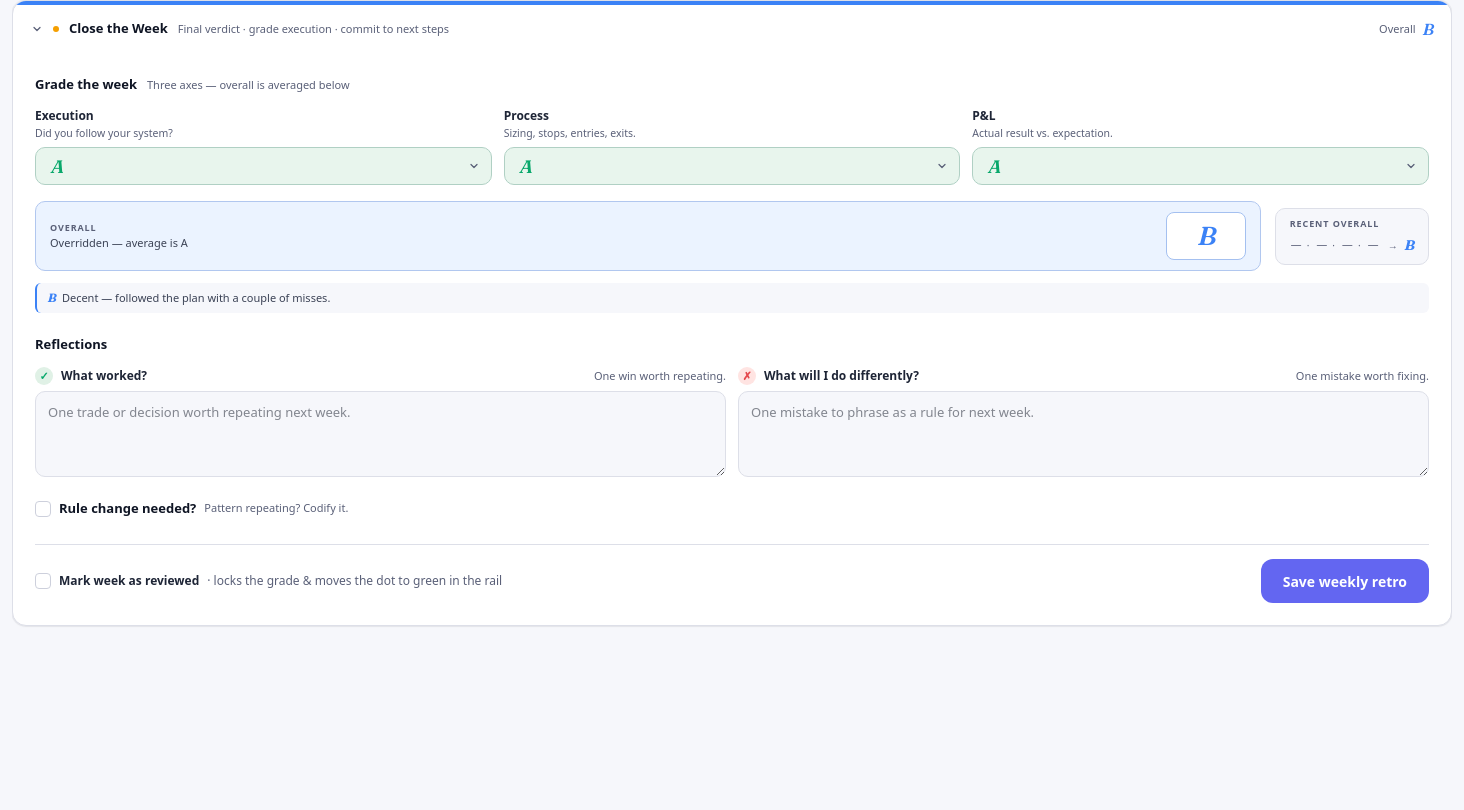
Test: CloseTheWeek — Phase 4.6 redesign › picking the derived value back clears overall_override
Expected: the text with test id "overall-state-line" shows "Overridden", [50, 235, 188, 250]
Note: Re-pick A (the derived value) → override clears.
Select "A" in the dropdown with test id "overall-select". click: [1206, 236]
box: [1166, 212, 1246, 260]
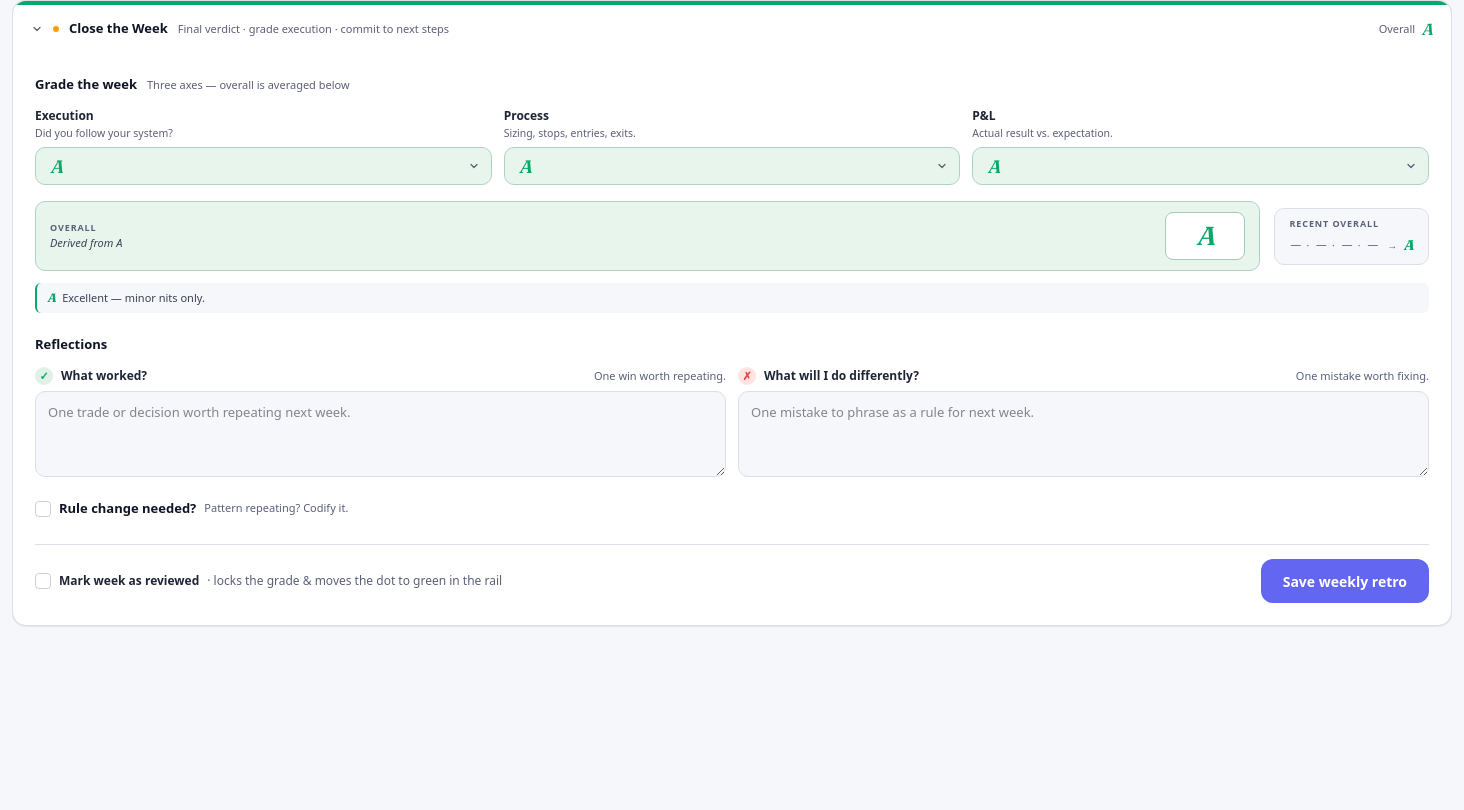
Expected: the text with test id "overall-state-line" shows "Derived", [50, 235, 122, 250]
